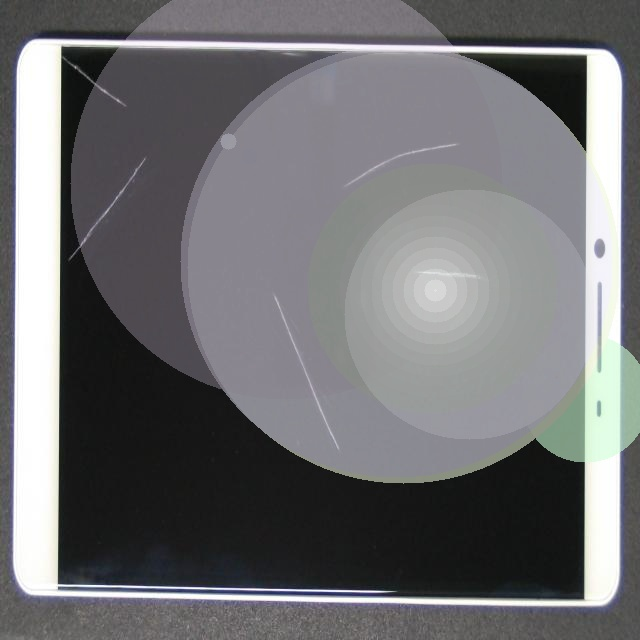scratch: (287, 134, 640, 383), (223, 333, 503, 619), (294, 41, 628, 215), (59, 94, 196, 179)
